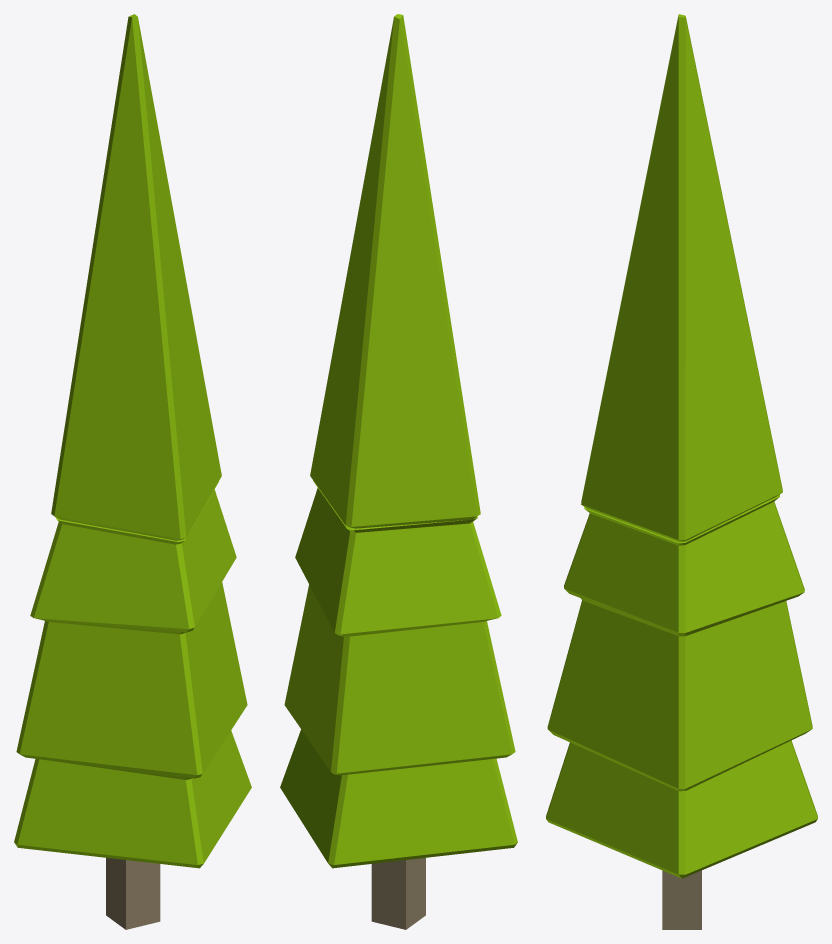
The model's file is pine_skewed_8_bevel.fbx.
3 views of the same model, side by side, from view 1: azimuth 30°, elevation 25°; view 2: azimuth 150°, elevation 25°; view 3: azimuth 270°, elevation 25° (orthographic).
Parts seen in each view (by area): view 1: pine_skewed_8_bevel; view 2: pine_skewed_8_bevel; view 3: pine_skewed_8_bevel.
Part boxes in pixels (x1,y1,x2,y2): pine_skewed_8_bevel: [14, 14, 251, 929]; pine_skewed_8_bevel: [280, 14, 517, 929]; pine_skewed_8_bevel: [546, 14, 817, 929].
Bounding box in the file's own units: 82.62 × 304 × 82.67.
